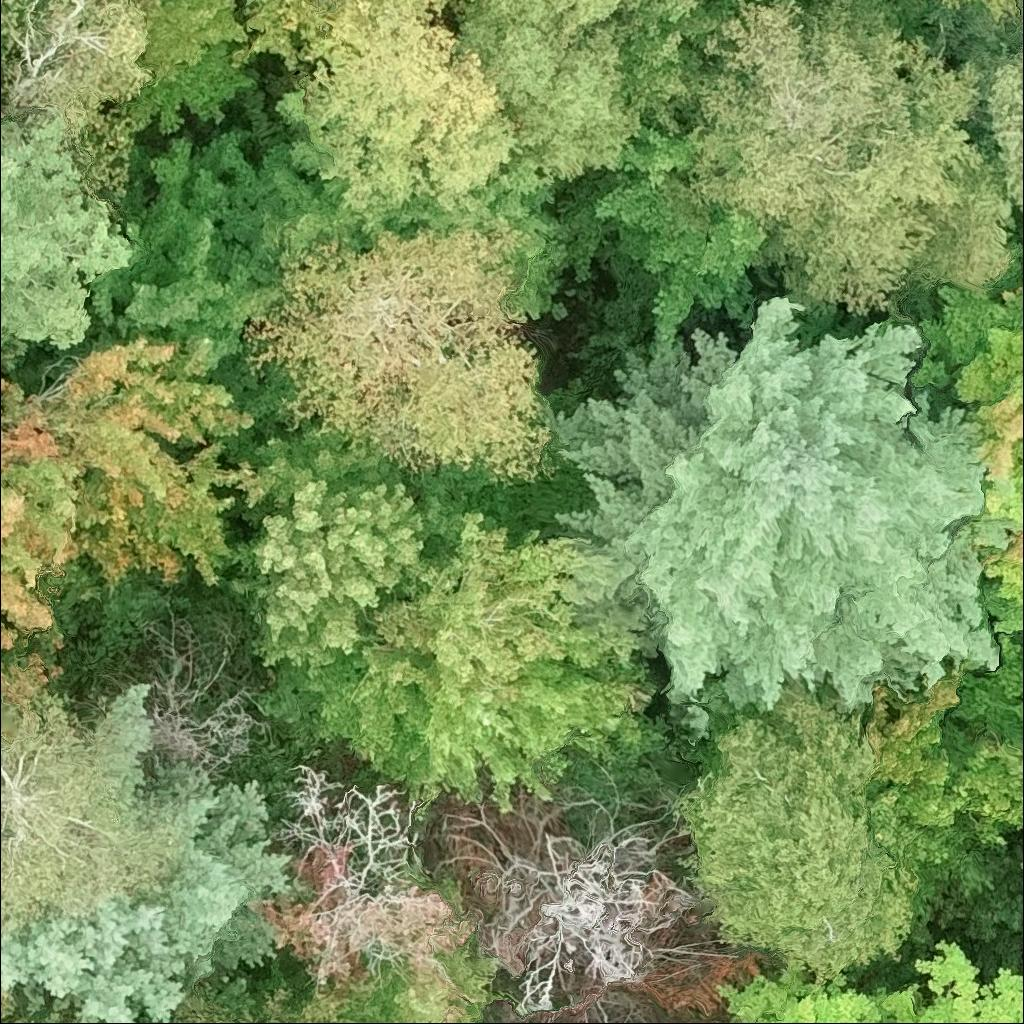crown: (546, 290, 1004, 739), (259, 482, 653, 809), (682, 0, 1019, 330), (0, 682, 297, 1023), (242, 210, 557, 486), (676, 681, 923, 979), (97, 89, 343, 374), (433, 791, 740, 1019), (0, 334, 260, 595), (266, 0, 520, 237), (887, 206, 1023, 637), (212, 421, 432, 686), (557, 122, 767, 359), (246, 845, 506, 1023), (0, 684, 186, 929), (447, 0, 646, 182), (0, 112, 133, 368), (862, 663, 995, 901), (716, 937, 1023, 1023), (139, 599, 278, 782), (0, 0, 159, 145), (269, 762, 420, 895), (616, 0, 736, 140), (172, 980, 420, 1023), (135, 0, 253, 88), (0, 563, 67, 708), (947, 633, 1023, 746), (973, 46, 1023, 209), (952, 733, 1023, 847), (230, 0, 341, 69), (0, 990, 75, 1023), (0, 478, 29, 546), (936, 0, 1018, 23), (408, 0, 451, 12), (74, 1012, 99, 1023), (0, 992, 7, 1021), (1019, 860, 1023, 868)
